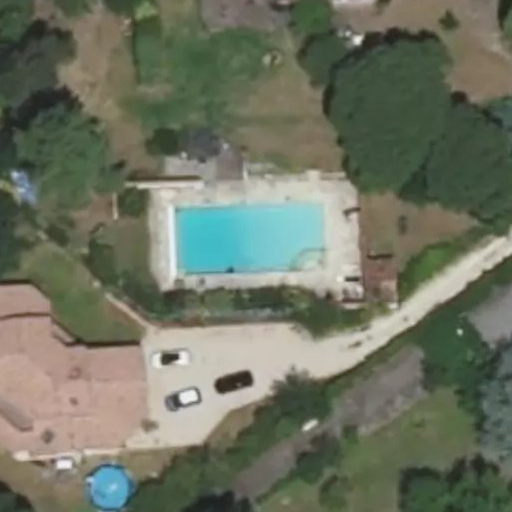pool: (181, 211, 330, 272)
